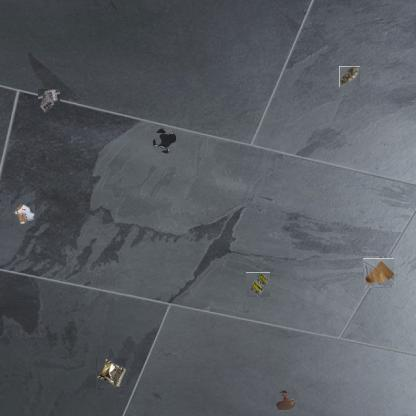dirty: (96, 358, 126, 388), (364, 257, 393, 287), (246, 272, 270, 297), (11, 202, 35, 226), (38, 90, 60, 116), (339, 66, 360, 87)
liquid: (154, 131, 174, 151), (277, 391, 297, 411)
